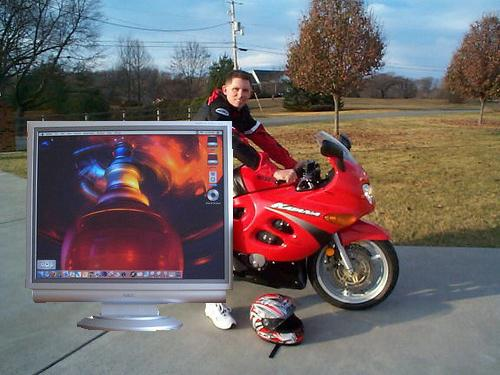tampered: (26, 122, 233, 331)
